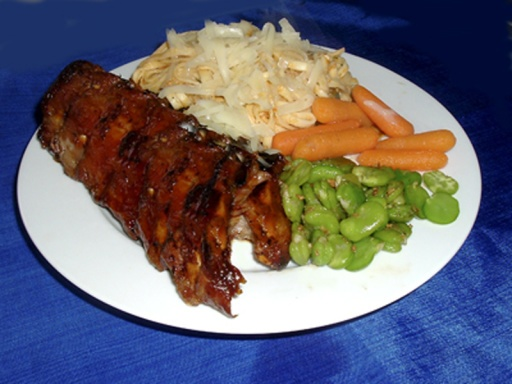background: (27, 10, 367, 190)
